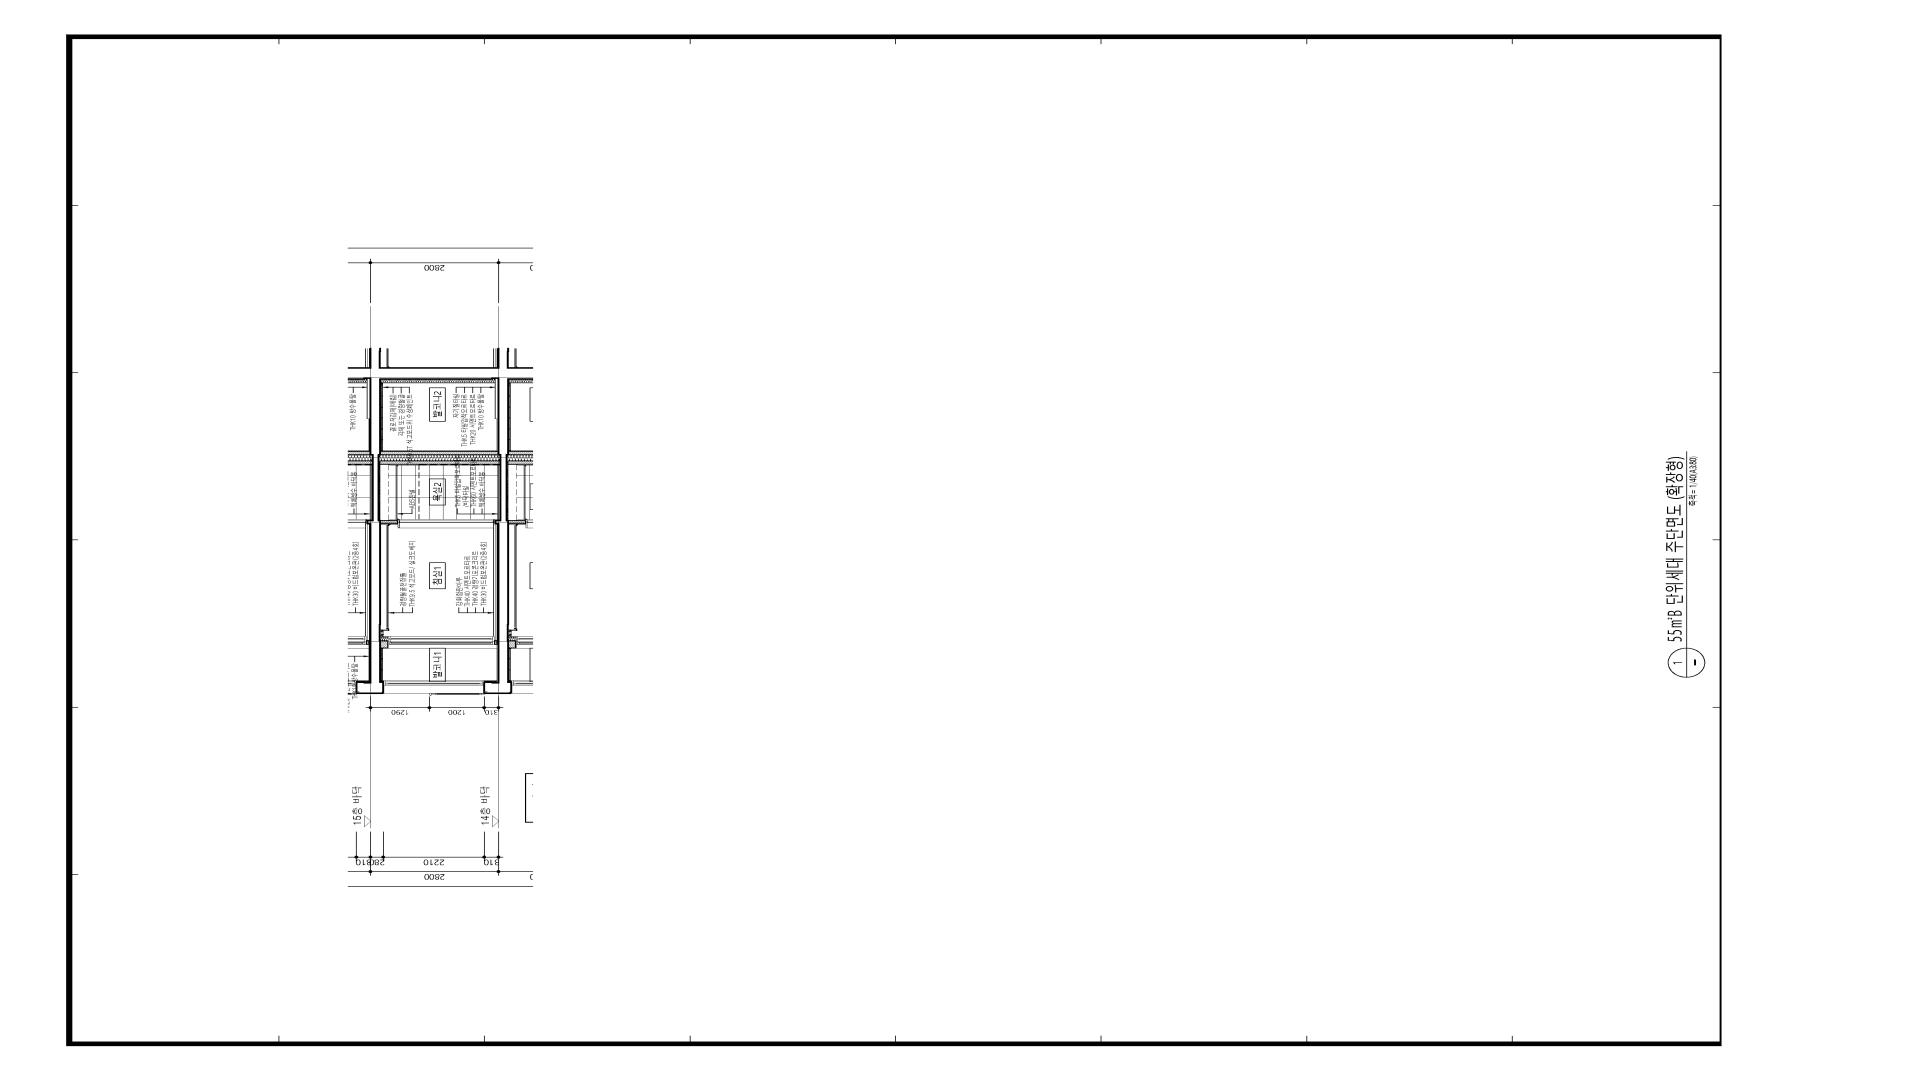door: (398, 520, 495, 529)
wall: (369, 367, 510, 694), (381, 460, 500, 464), (381, 451, 498, 455), (381, 520, 398, 525), (381, 641, 388, 649), (495, 640, 497, 645)
window: (388, 636, 495, 649), (384, 680, 484, 694)
